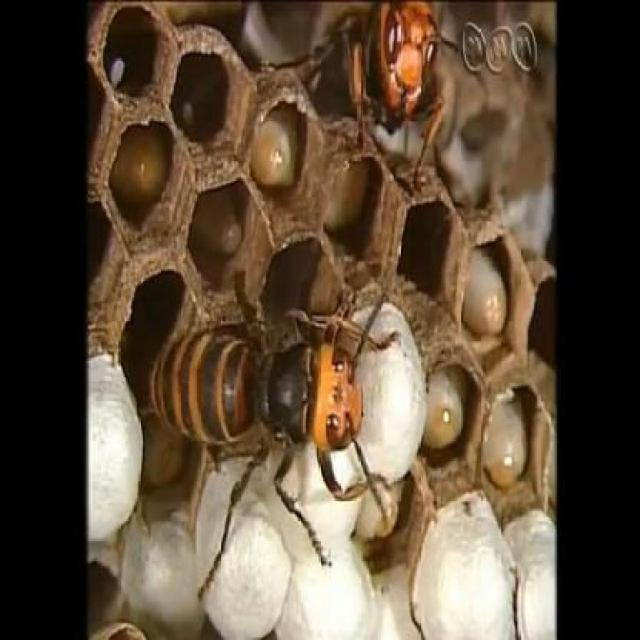Wasp: (153, 259, 394, 569), (270, 2, 457, 192)
